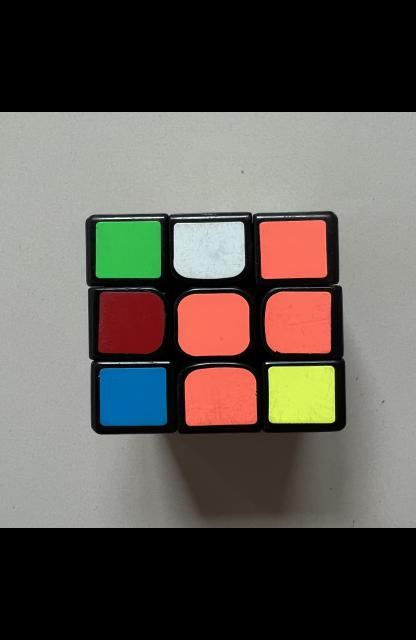Blue: (98, 368, 166, 426)
Green: (94, 220, 160, 279)
Orange: (177, 293, 249, 356), (184, 368, 257, 426), (264, 292, 330, 354), (258, 220, 327, 279)
Red: (97, 292, 164, 354)
White: (173, 221, 244, 279)
Yellow: (267, 366, 334, 424)
